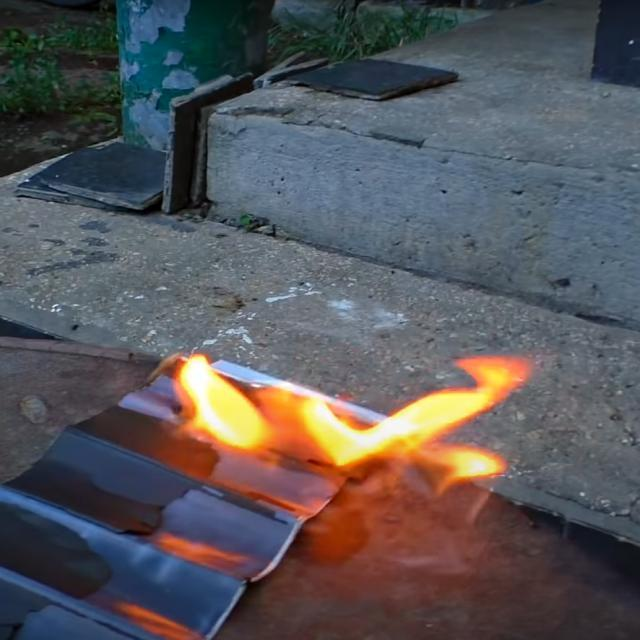Fire: (175, 346, 534, 484)
